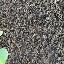Prickly Sida: (62, 0, 64, 11)
